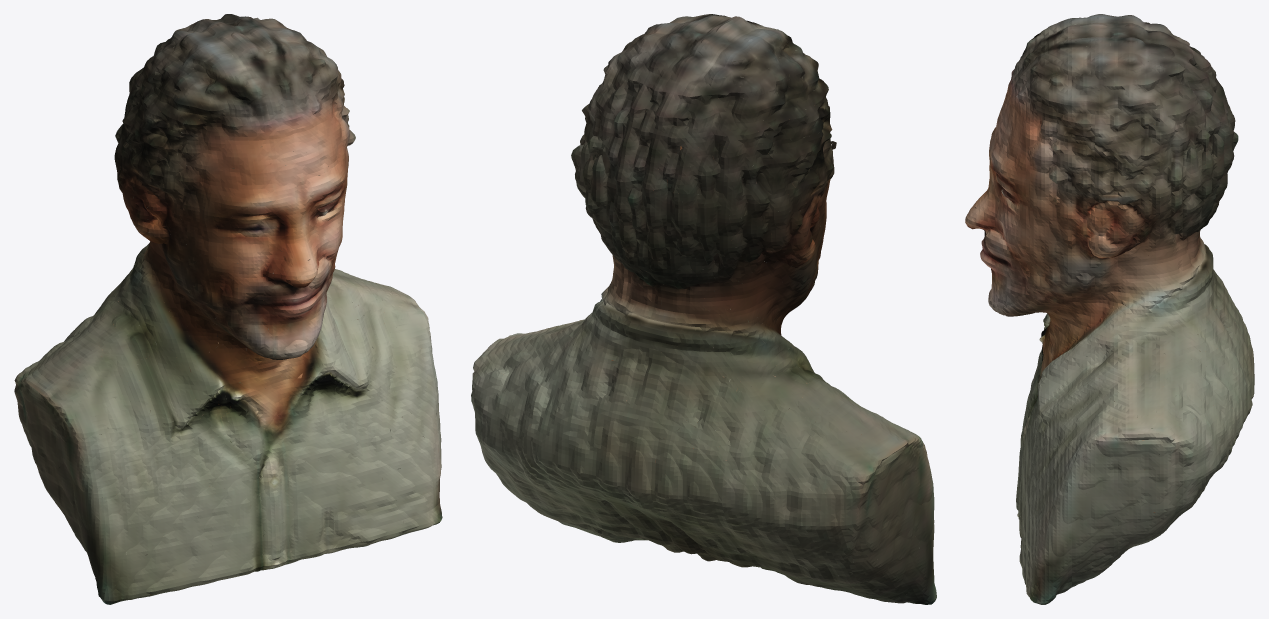
The model's file is local_20260928_221435.glb.
The picture shows the model from 3 angles, left to right: view 1: azimuth 30°, elevation 25°; view 2: azimuth 150°, elevation 25°; view 3: azimuth 270°, elevation 25°; orthographic projection. The views are drawn at different scales.
Parts seen in each view (by area): view 1: geometry_0; view 2: geometry_0; view 3: geometry_0.
Part boxes in pixels (<box>): geometry_0: <box>14,14,442,604</box>; geometry_0: <box>471,14,936,604</box>; geometry_0: <box>965,14,1254,604</box>.
Size of the model in its own units: 0.7559 by 0.9858 by 0.5159.
Materials: 1 (1 with a texture image).
